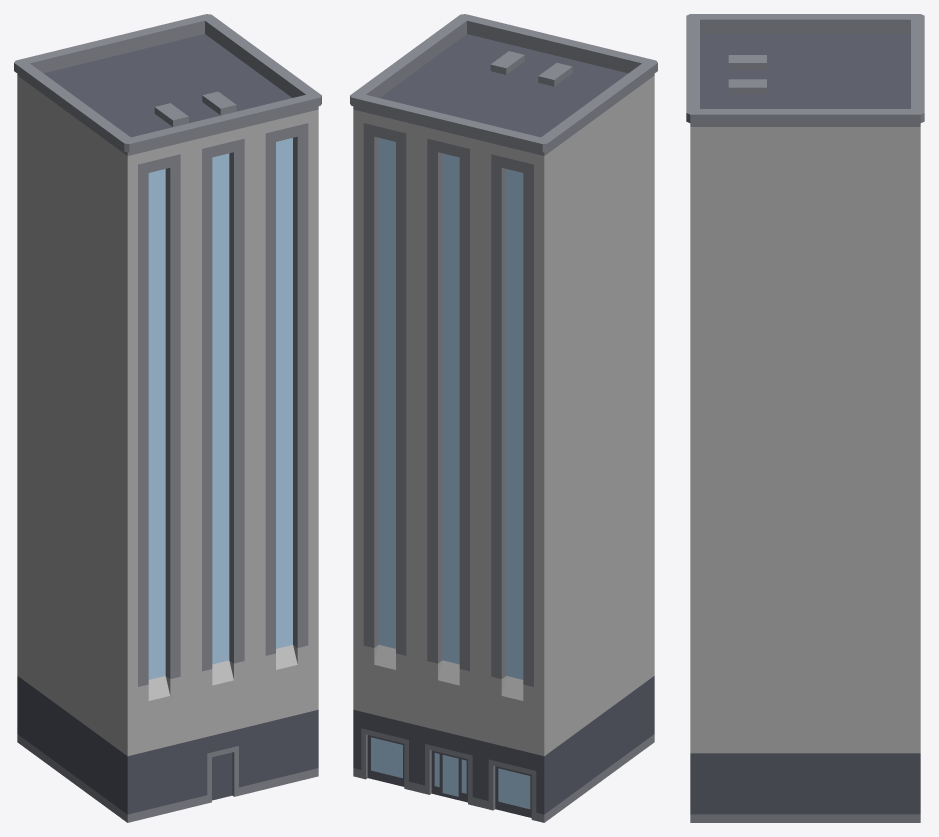
File: skyscraper.glb
3 views of the same model, side by side, from view 1: azimuth 30°, elevation 25°; view 2: azimuth 150°, elevation 25°; view 3: azimuth 270°, elevation 25° (orthographic). The views are drawn at different scales.
Visible parts, largest first — view 1: skyscraperF_0c6e9b, skyscraperF_53c854, skyscraperF_c07759, skyscraperF_b3b895; view 2: skyscraperF_0c6e9b, skyscraperF_53c854, skyscraperF_b3b895, skyscraperF_c07759; view 3: skyscraperF_0c6e9b, skyscraperF_c07759, skyscraperF_53c854.
Boxes of the visible parts, box(x1,y1,x2,y2) form: skyscraperF_0c6e9b: box(17, 75, 318, 756); skyscraperF_53c854: box(14, 14, 321, 822); skyscraperF_c07759: box(17, 34, 318, 814); skyscraperF_b3b895: box(148, 138, 292, 679); skyscraperF_0c6e9b: box(353, 75, 654, 756); skyscraperF_53c854: box(350, 14, 657, 822); skyscraperF_b3b895: box(371, 138, 530, 809); skyscraperF_c07759: box(353, 34, 654, 817); skyscraperF_0c6e9b: box(690, 127, 920, 753); skyscraperF_c07759: box(690, 33, 920, 814); skyscraperF_53c854: box(686, 14, 924, 822).
Size of the model in its own units: 30.39 by 100 by 30.39.
